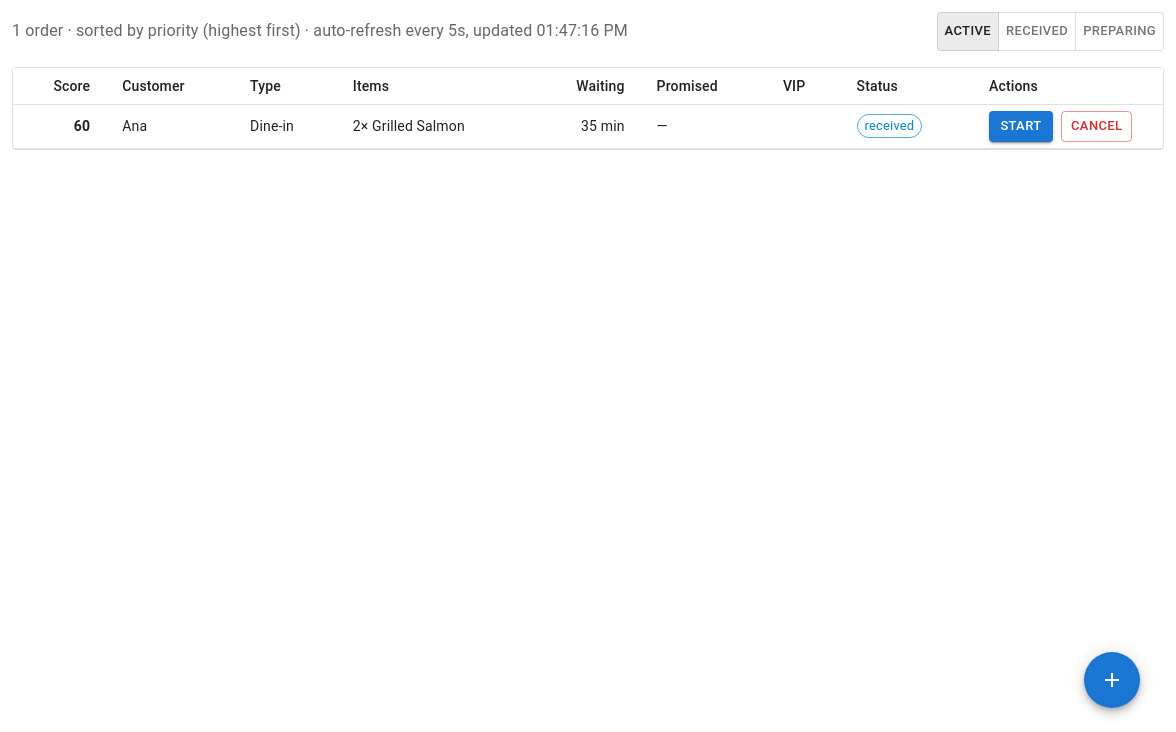
Scenario: KitchenDisplay › shows the API error on screen when a transition is rejected
This screenshot has width=1176, height=732.
Click the button "Start".
click(1021, 126)  # box [989, 111, 1053, 142]
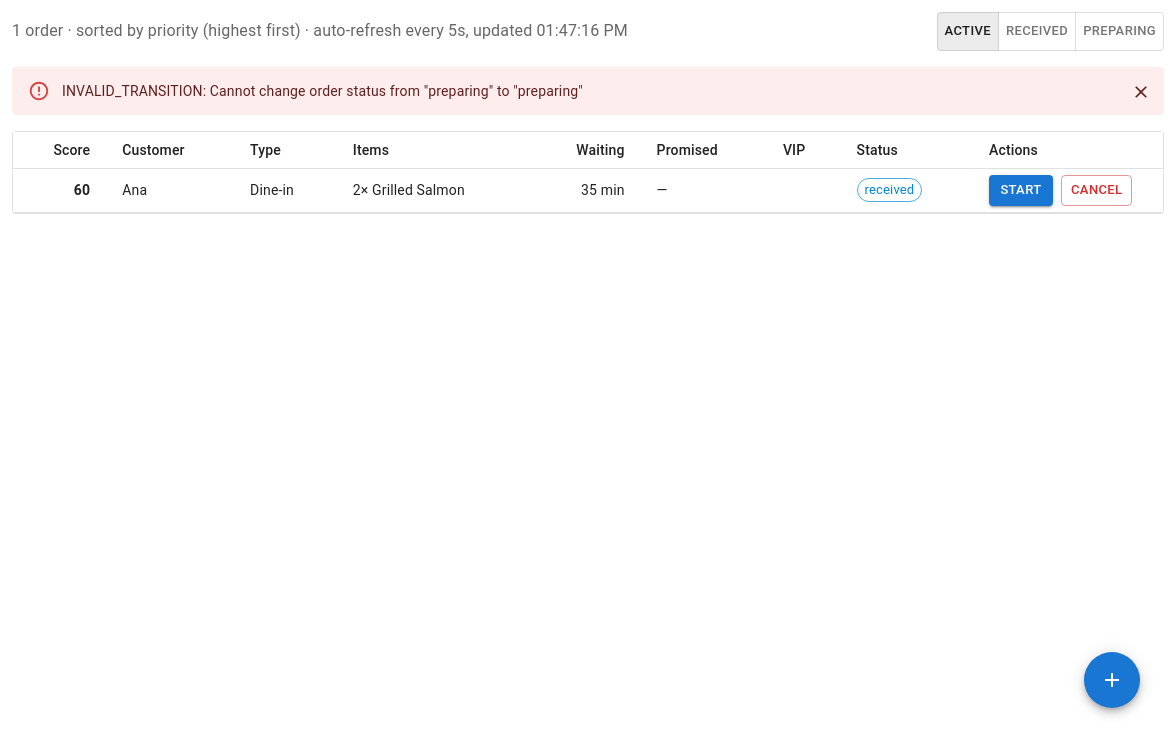
Expected: the message shows "INVALID_TRANSITION", [62, 83, 583, 99]
